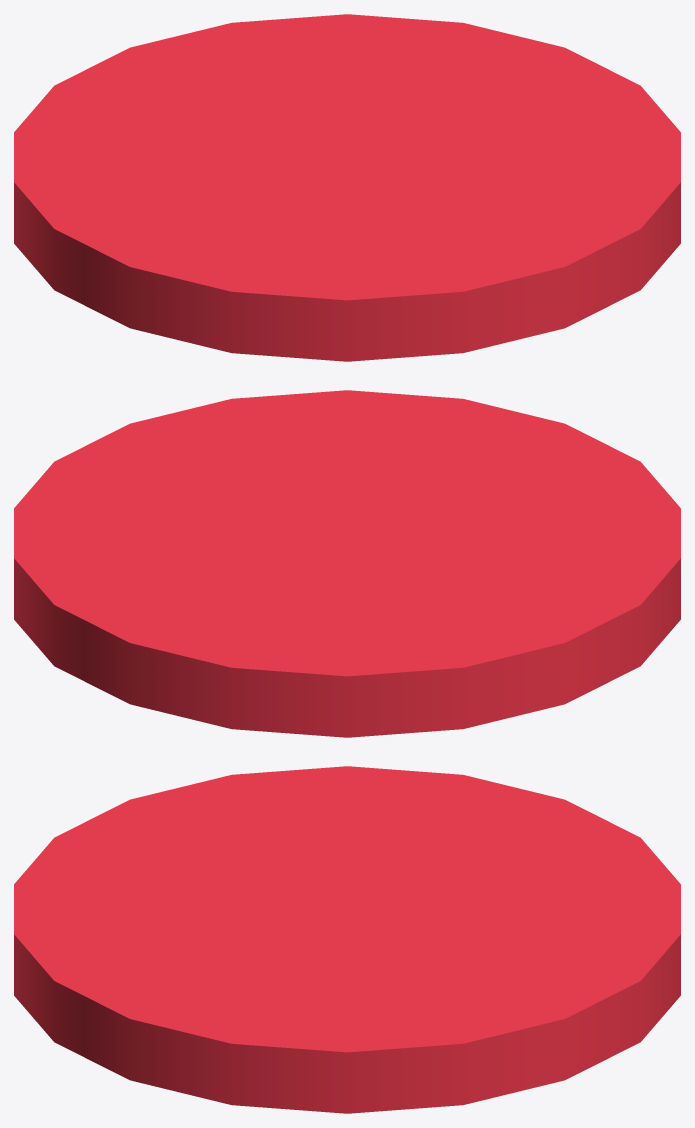
File: soupBase_tomato.FBX
3 renders of one model, top to bottom at view 1: azimuth 30°, elevation 25°; view 2: azimuth 150°, elevation 25°; view 3: azimuth 270°, elevation 25°, orthographic.
Visible parts, largest first — view 1: Cylinder002; view 2: Cylinder002; view 3: Cylinder002.
Boxes of the visible parts, x1,y1,x2,y2 form: Cylinder002: (14,14,680,361); Cylinder002: (14,390,680,737); Cylinder002: (14,766,680,1113).
Bounding box in the file's own units: 92.13 × 90.73 × 9.21.
Materials: 1 (1 with a texture image).
